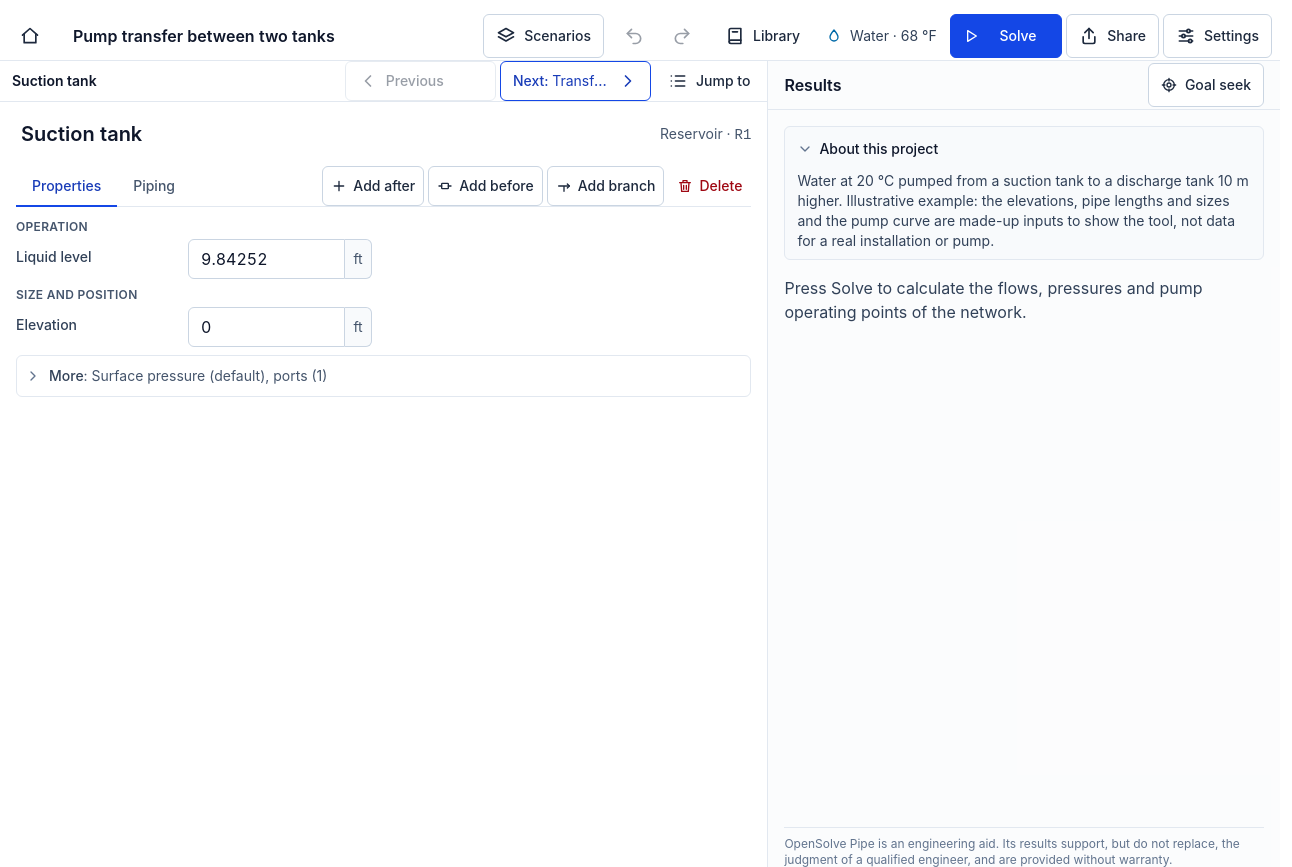
Test case: flags list › leads with the element and reads in names and display units
Step 1. Click the button "Solve" → (1006, 36), box top-left (950, 14), bottom-right (1062, 58)
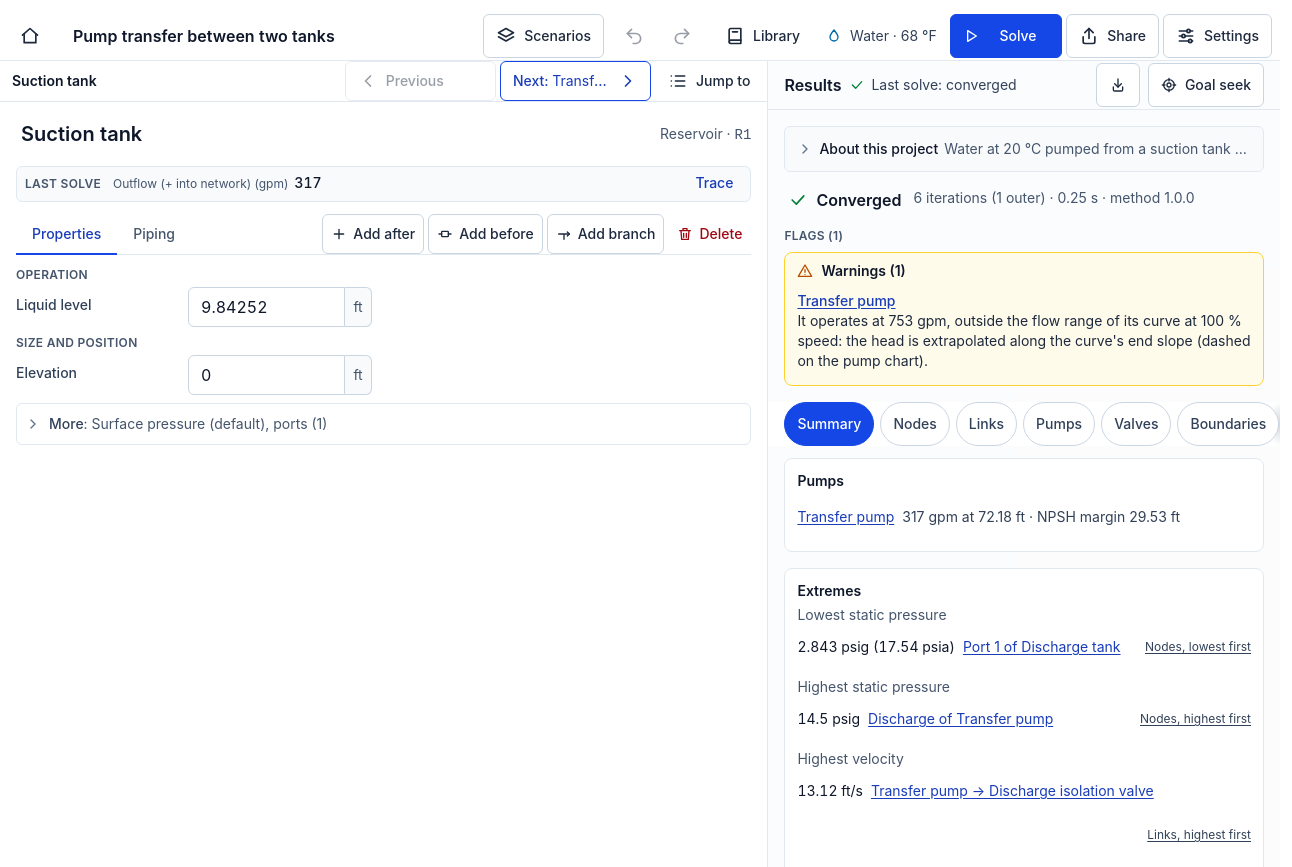
Now the text "Transfer pump" below "Warnings (1)" is shown, box top-left (797, 292), bottom-right (896, 309)
